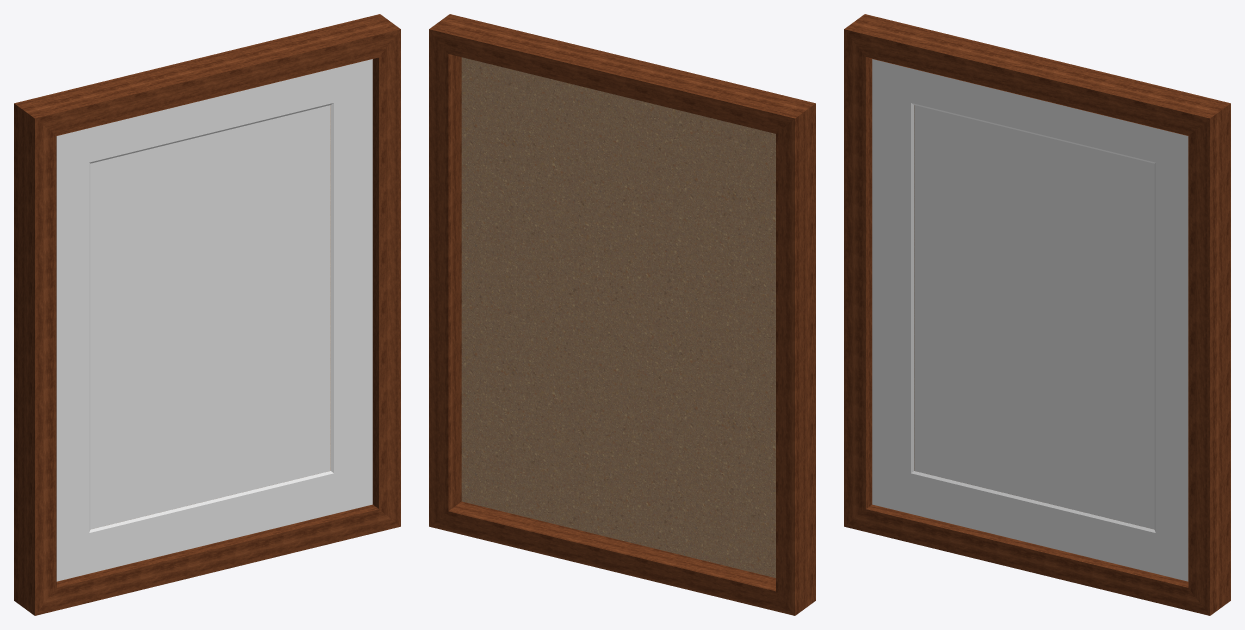
File: ppt-portrait-empty.glb
3 renders of one model, left to right at view 1: azimuth 30°, elevation 25°; view 2: azimuth 150°, elevation 25°; view 3: azimuth 330°, elevation 25°, orthographic.
Parts seen in each view (by area): view 1: Glass, Motif, Frame, Passepartout; view 2: Back, Frame; view 3: Glass, Motif, Frame, Passepartout.
Part boxes in pixels (x1,y1,x2,y2): Glass: (57, 59, 372, 581); Motif: (90, 105, 330, 529); Frame: (14, 14, 400, 615); Passepartout: (56, 59, 372, 581); Back: (461, 57, 775, 577); Frame: (429, 14, 815, 615); Glass: (872, 59, 1187, 581); Motif: (914, 105, 1154, 529); Frame: (844, 14, 1230, 615); Passepartout: (872, 59, 1188, 581).
Bounding box in the file's own units: 0.335 × 0.435 × 0.033.
Materials: 5 (3 with a texture image).
